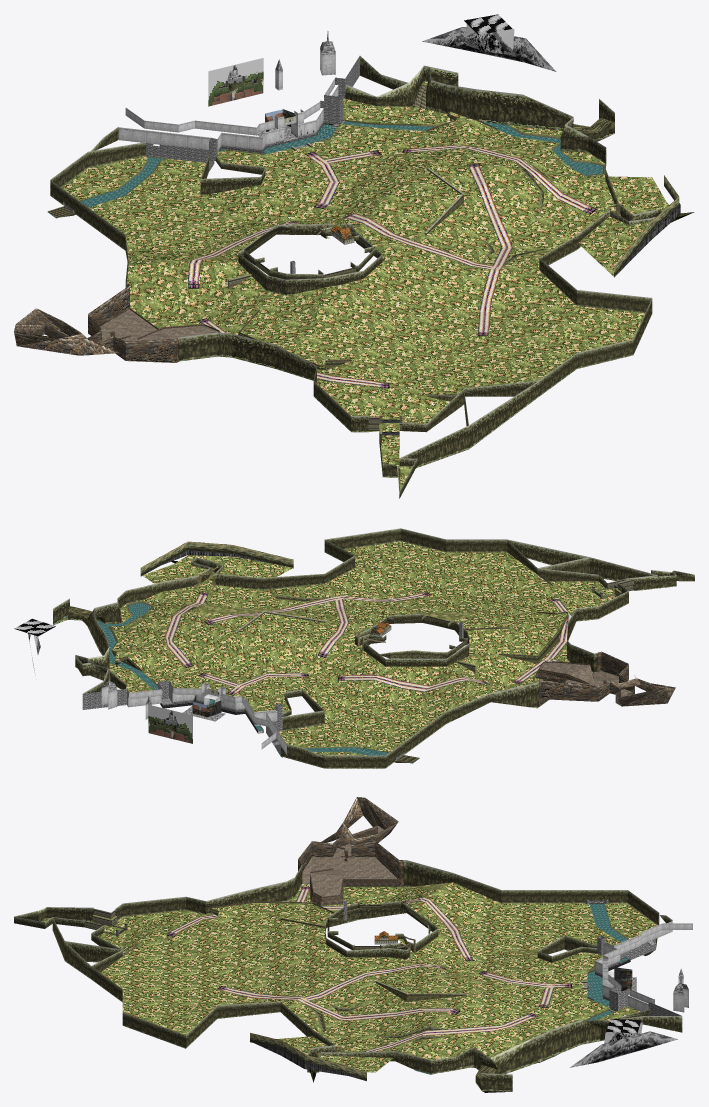
The model's file is HyruleField.glb.
3 views of the same model, one above another, from view 1: azimuth 30°, elevation 25°; view 2: azimuth 150°, elevation 25°; view 3: azimuth 270°, elevation 25° (orthographic). The views are drawn at different scales.
Parts seen in each view (by area): view 1: hyrulefeild; view 2: hyrulefeild; view 3: hyrulefeild.
Boxes of the visible parts, <box> form: hyrulefeild: <box>14,14,694,498</box>; hyrulefeild: <box>14,528,694,768</box>; hyrulefeild: <box>14,797,692,1092</box>.
Bounding box in the file's own units: 88.4 × 12.51 × 91.7.
56 materials, 53 textured.
